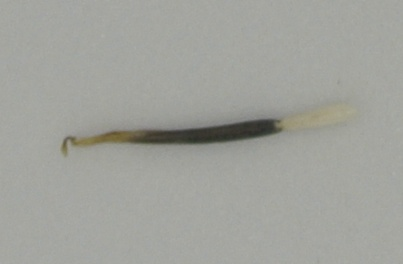เมล็ดงอกแตก: (60, 102, 357, 157)
